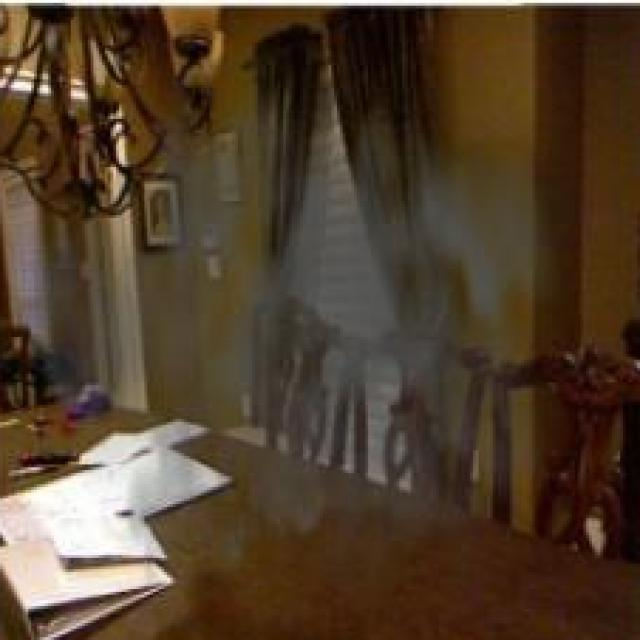fire: (34, 54, 595, 640)
